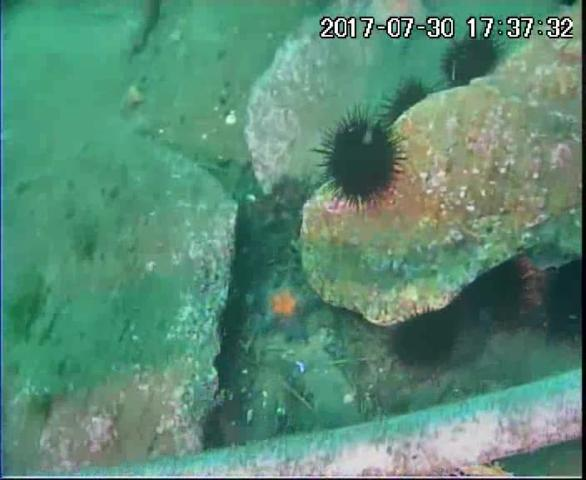echinus: (323, 116, 405, 204), (387, 308, 463, 374), (462, 258, 531, 323), (543, 261, 586, 344), (445, 36, 501, 89), (377, 81, 432, 133)
starfish: (250, 271, 326, 347)
